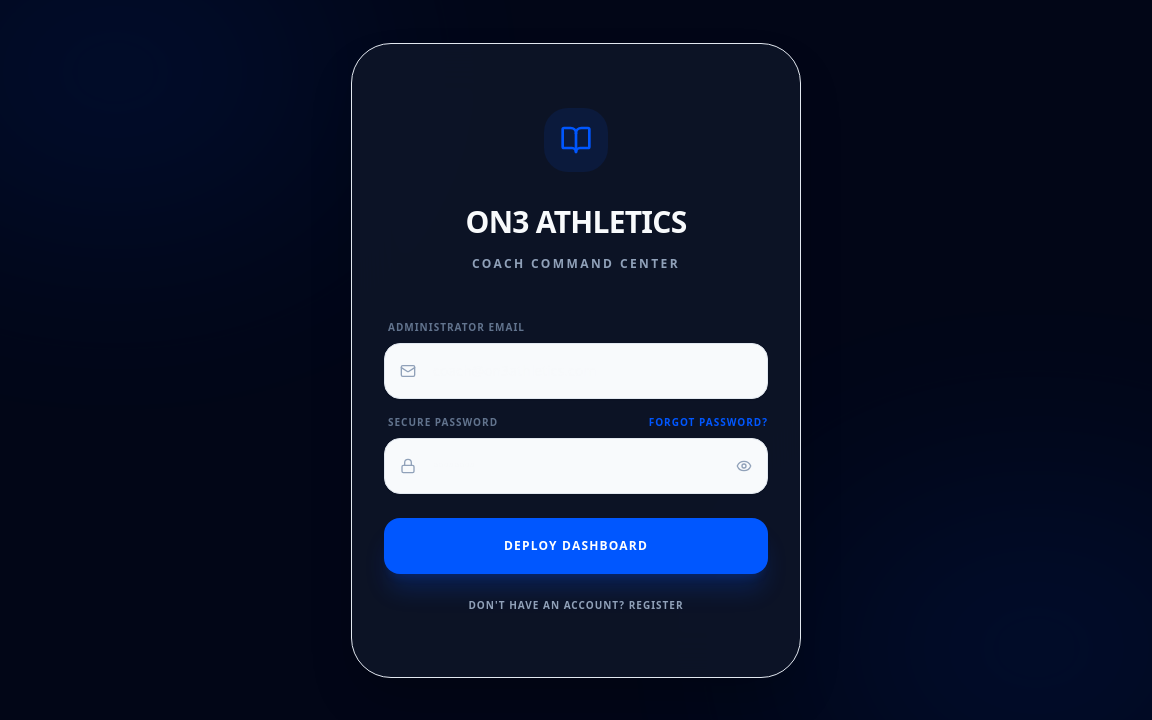
Scenario: Public Registration Flow › shows registration form when "Register" is clicked
This screenshot has width=1152, height=720.
Expected: the button "Deploy Dashboard" is shown, x1=384 y1=518 x2=768 y2=574
// Switch to register
Click the button "Don't have an account? Register". click: (576, 605)
box: x1=384 y1=598 x2=768 y2=612
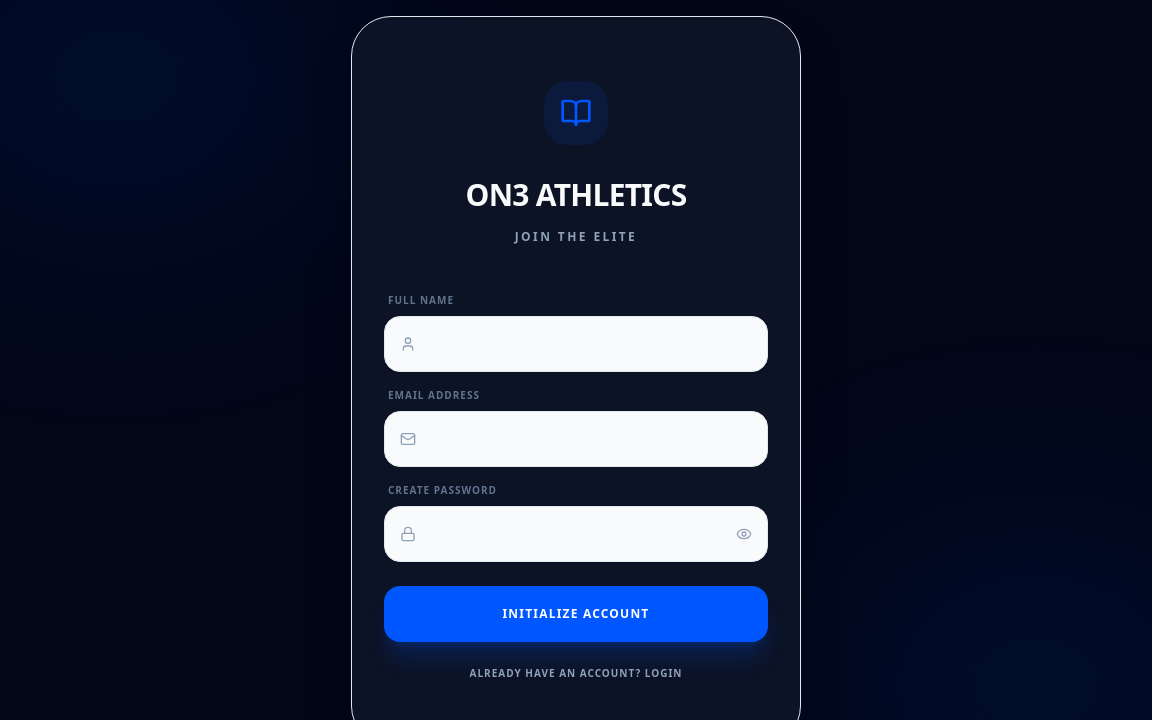
Expected: the text "Join the Elite" is shown, x1=515 y1=228 x2=637 y2=245
Expected: the field with placeholder "Athlete Name" is shown, x1=384 y1=316 x2=768 y2=372
